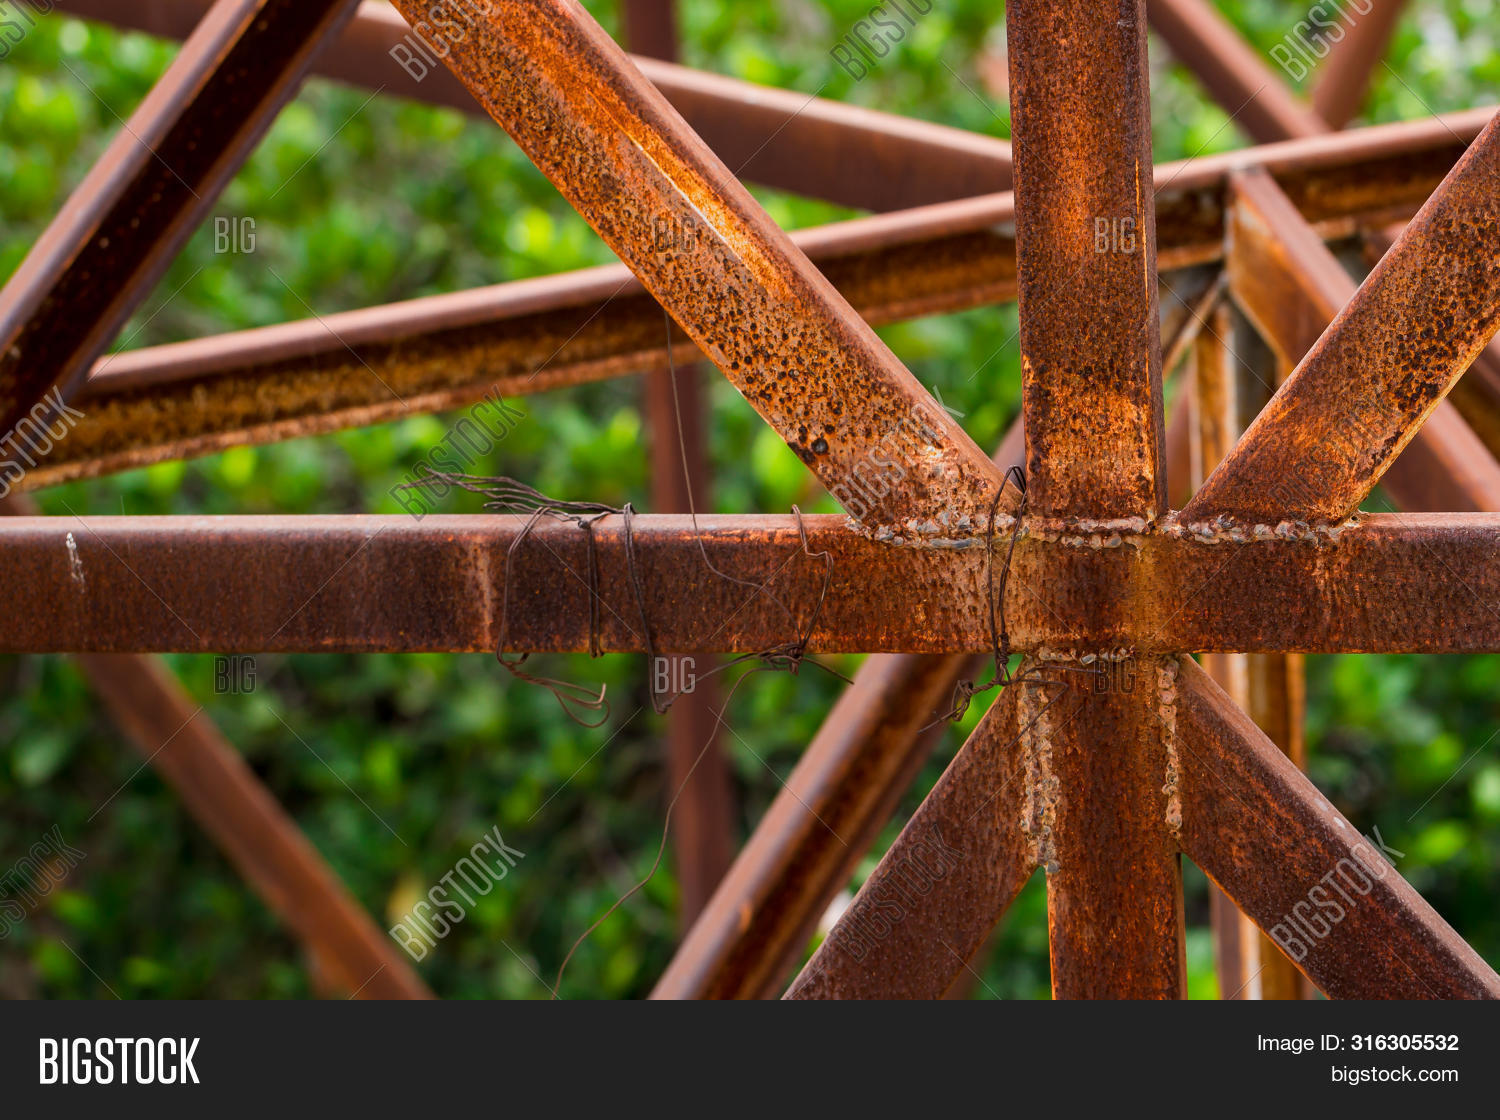rust: (14, 518, 1476, 660), (1249, 209, 1475, 498), (1031, 1, 1155, 486), (1208, 744, 1445, 991), (1048, 676, 1178, 996), (880, 745, 1006, 991)
